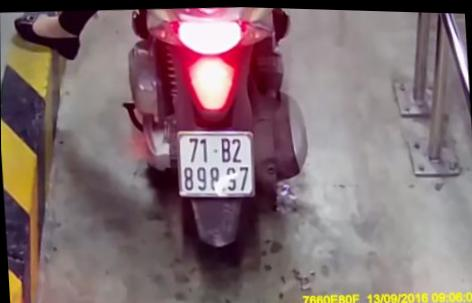LP: (173, 124, 258, 201)
